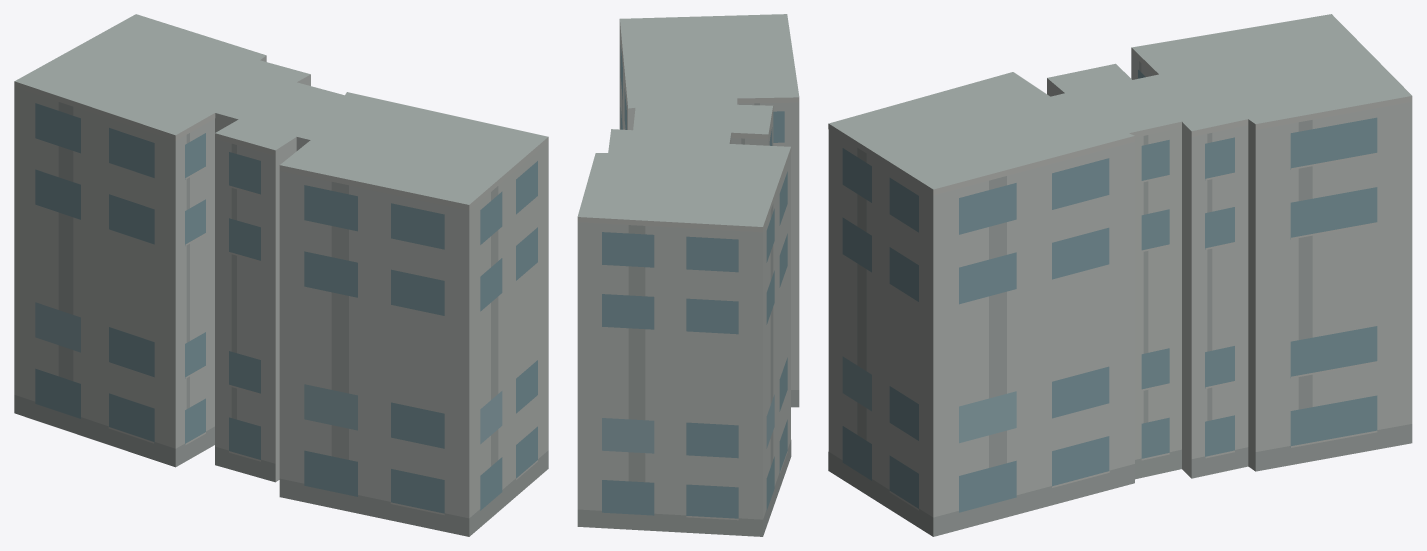
Rendered from survey-upis-32561096.glb.
3 renders of one model, left to right at view 1: azimuth 30°, elevation 25°; view 2: azimuth 150°, elevation 25°; view 3: azimuth 270°, elevation 25°, orthographic. The views are drawn at different scales.
Parts seen in each view (by area): view 1: survey-upis-32561096.tmp; view 2: survey-upis-32561096.tmp; view 3: survey-upis-32561096.tmp.
Boxes of the visible parts, x1=… form: survey-upis-32561096.tmp: x1=14, y1=14, x2=548, y2=536; survey-upis-32561096.tmp: x1=577, y1=14, x2=799, y2=536; survey-upis-32561096.tmp: x1=828, y1=14, x2=1412, y2=536.
Size of the model in its own units: 15.51 by 14.3 by 21.79.
